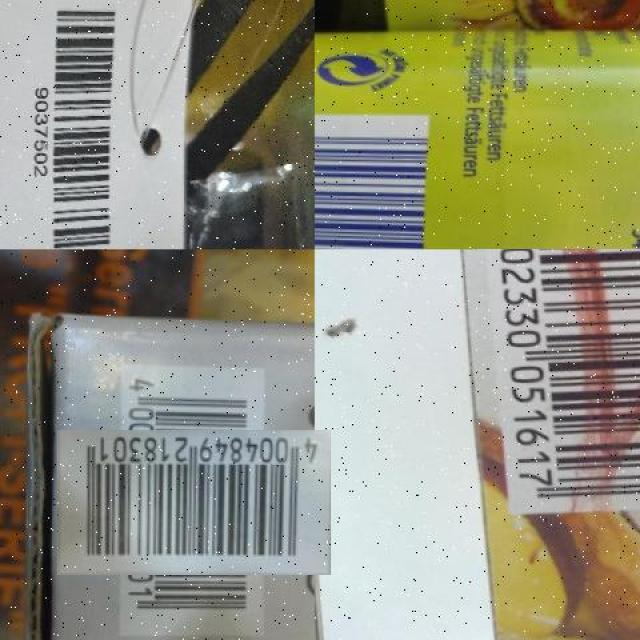Barcode: (477, 249, 640, 522), (89, 397, 299, 607), (32, 0, 128, 249), (315, 112, 433, 249)
